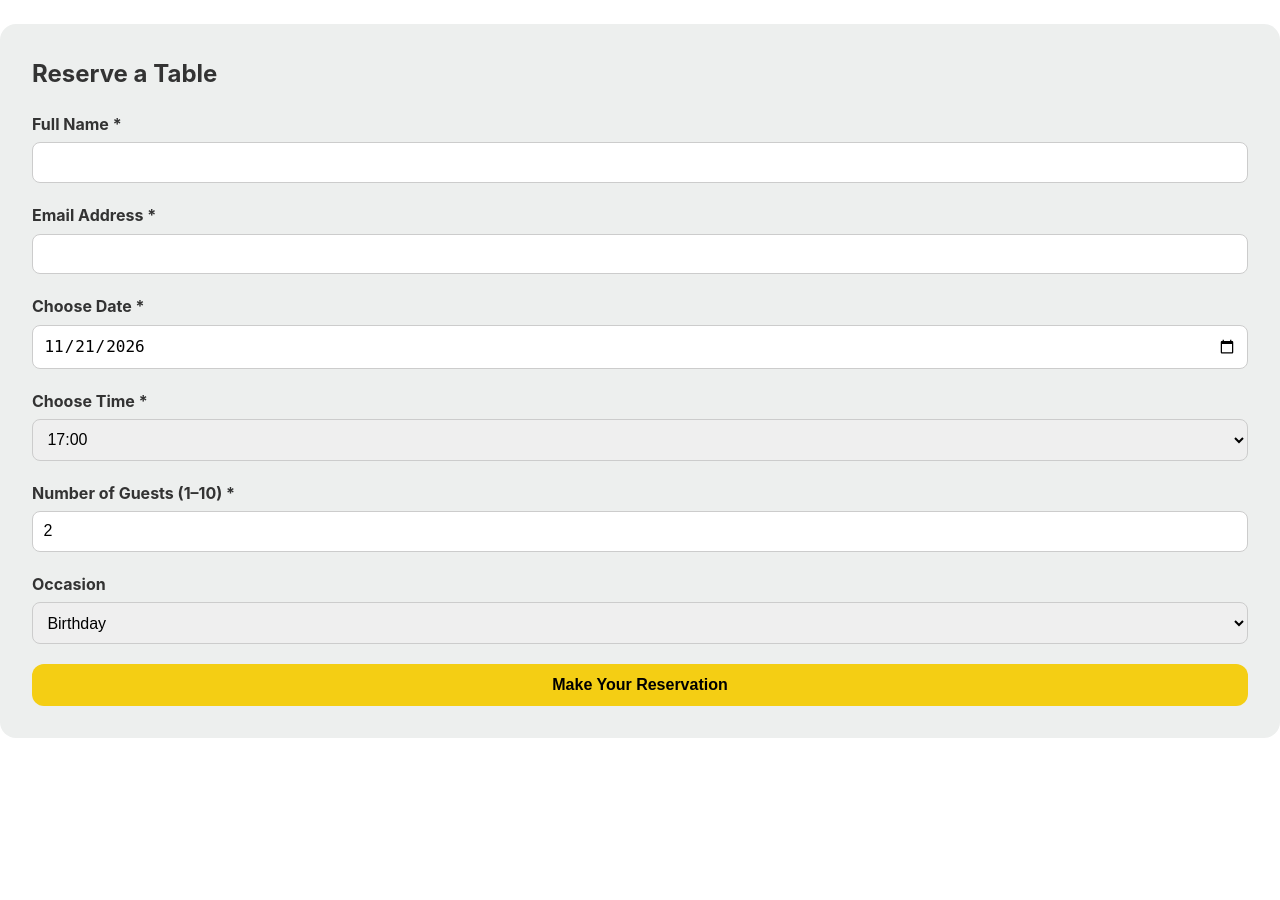
Test case: BookingForm & Reservation Reducer › Displays validation error messages on invalid form submission
Click the button with aria-label "submit table reservation".
click(640, 685)  # box [32, 664, 1248, 706]
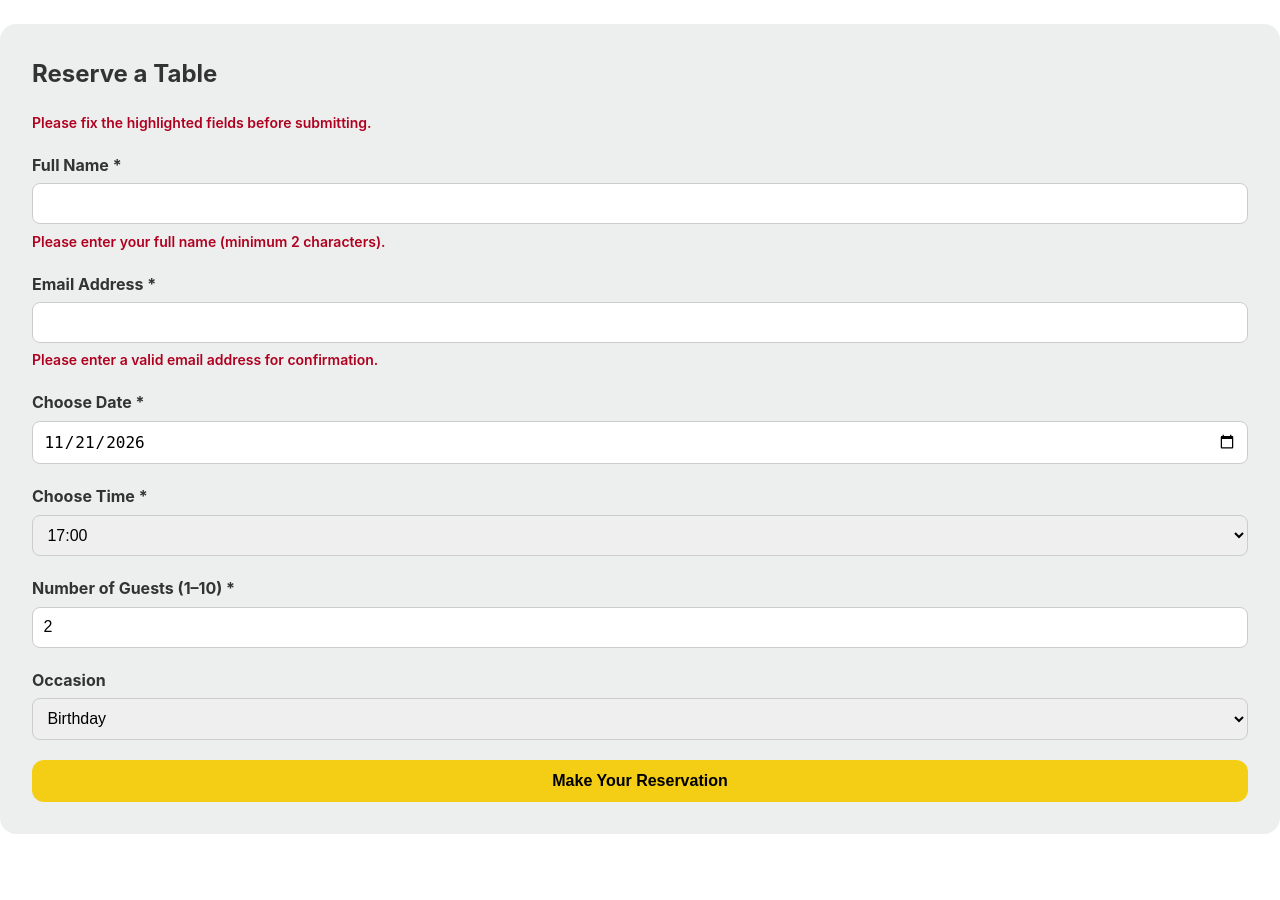
Now the text "Please enter your full name (minimum 2 characters)." is shown, box [32, 233, 386, 250]
